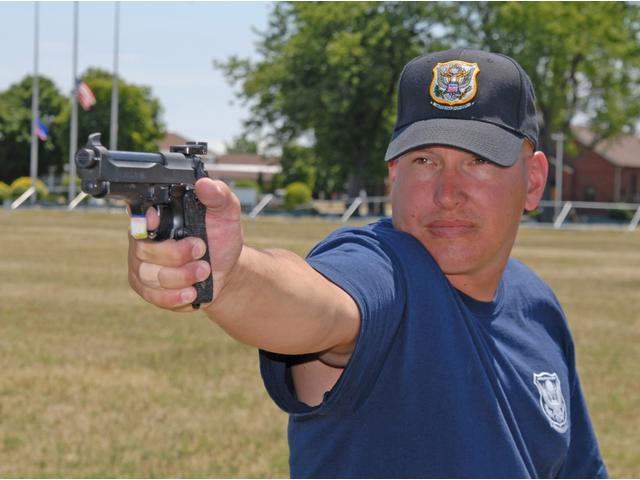pistol: (69, 132, 218, 306)
